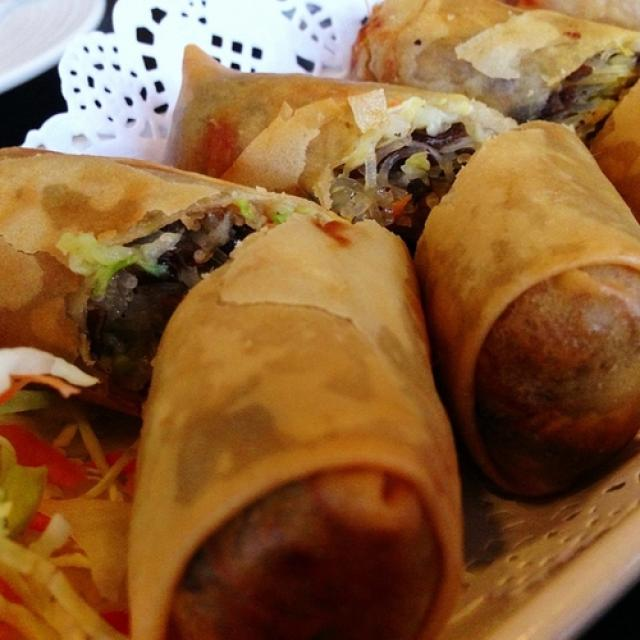炸货点心: (29, 21, 612, 610)
